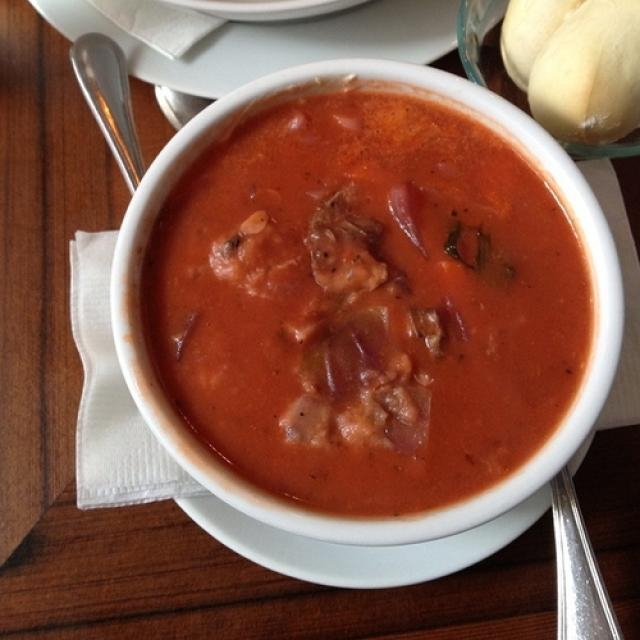汤锅炖物: (114, 52, 598, 557)
